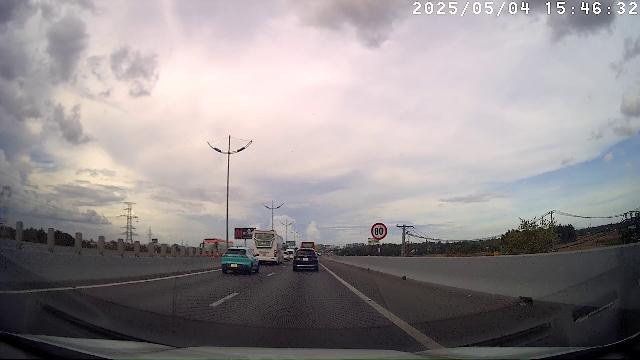127-toc-do-toi-da-80: (370, 222, 388, 240)
